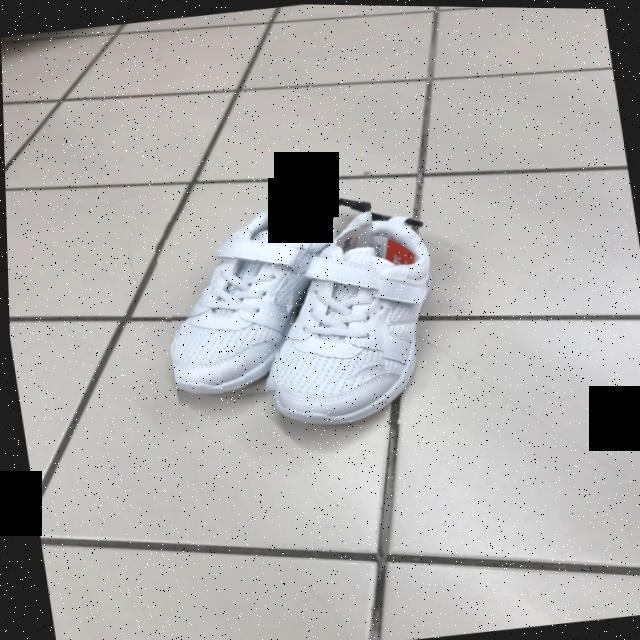shoe: (168, 197, 370, 398), (272, 215, 431, 429)
